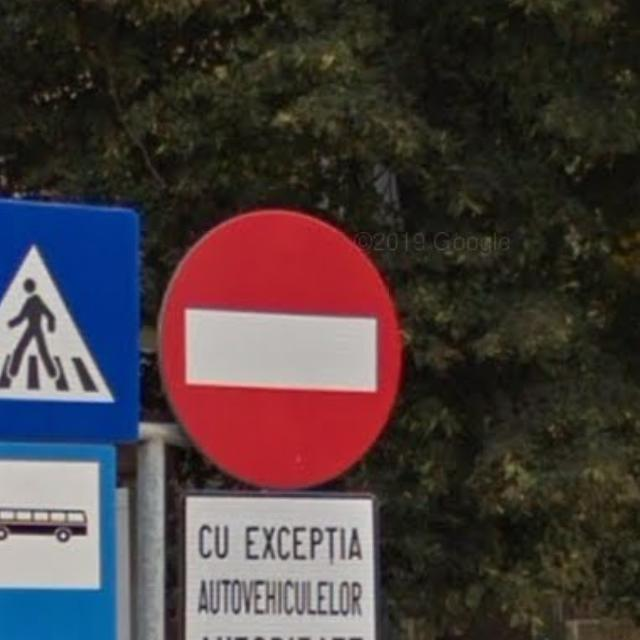info_crosswalk: (0, 211, 142, 442)
